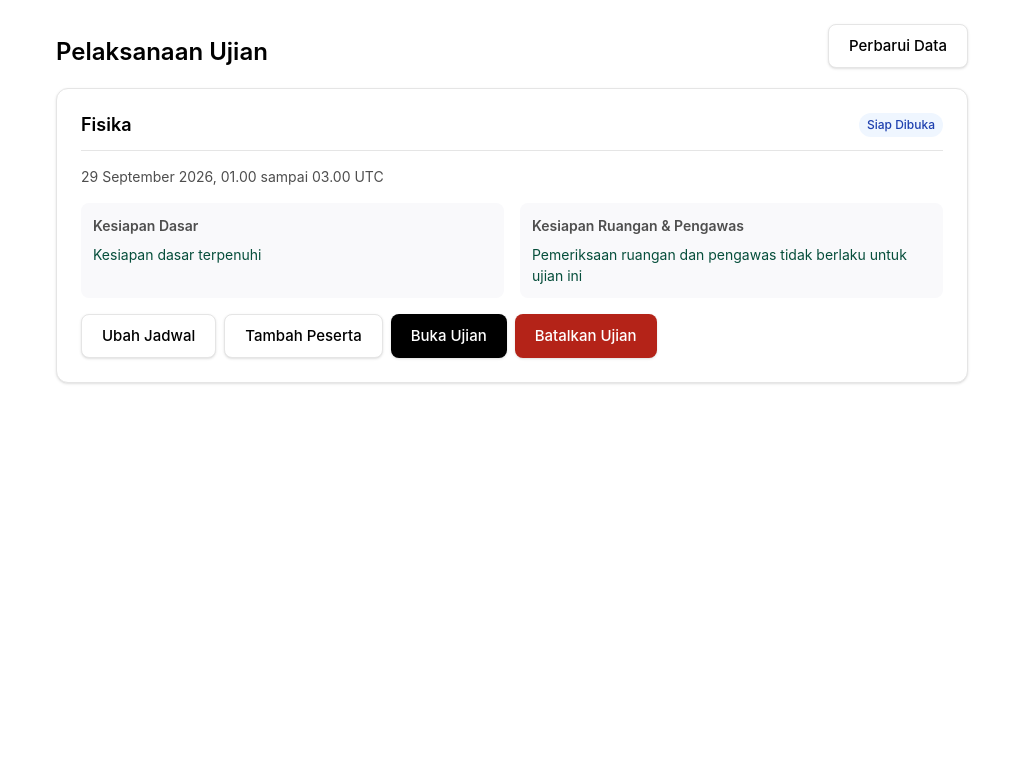
teacher exam operations › explains why an exam cannot be opened yet
This screenshot has width=1024, height=768.
Click the button "Buka Ujian" at (449, 336), box [391, 314, 507, 358]
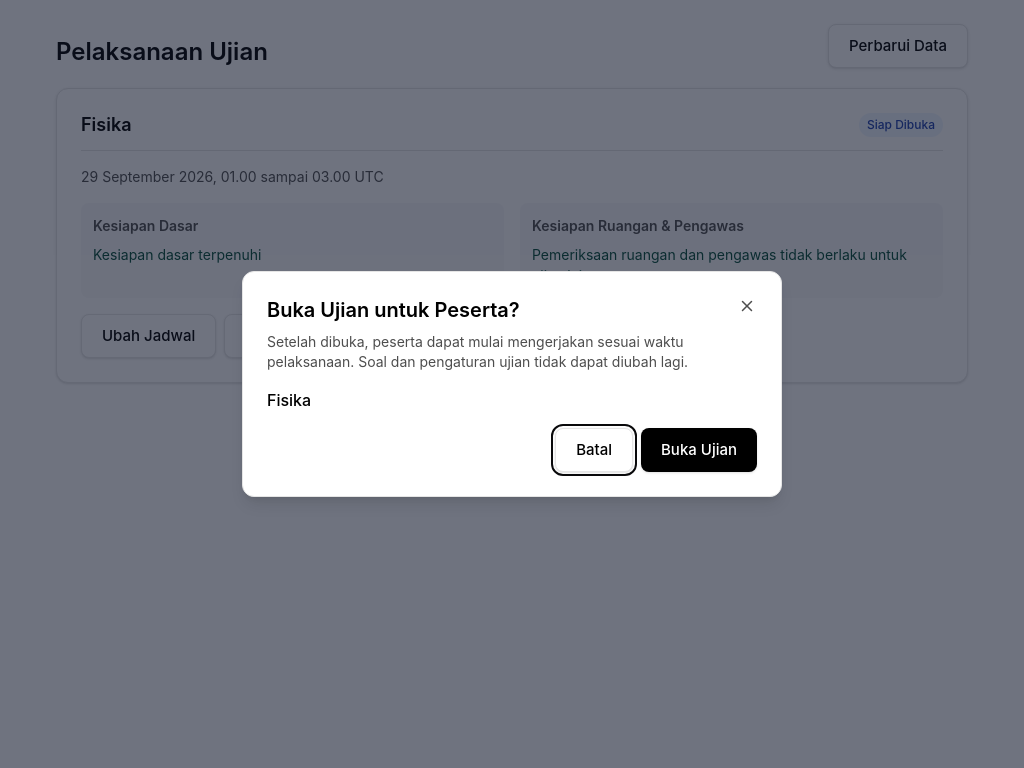
Click the button "Buka Ujian" at (699, 450), box [641, 428, 757, 472]
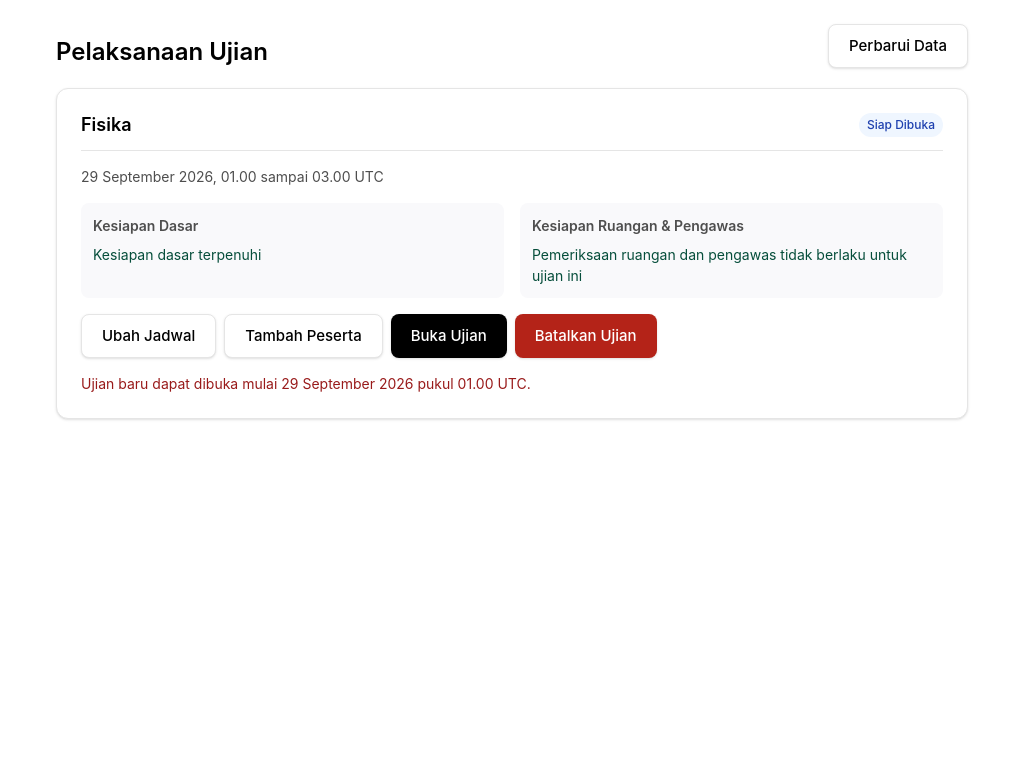
Expected: the text "Ujian baru dapat dibuka mulai 29 September 2026 pukul 01.00 UTC." is shown, [81, 375, 531, 392]
